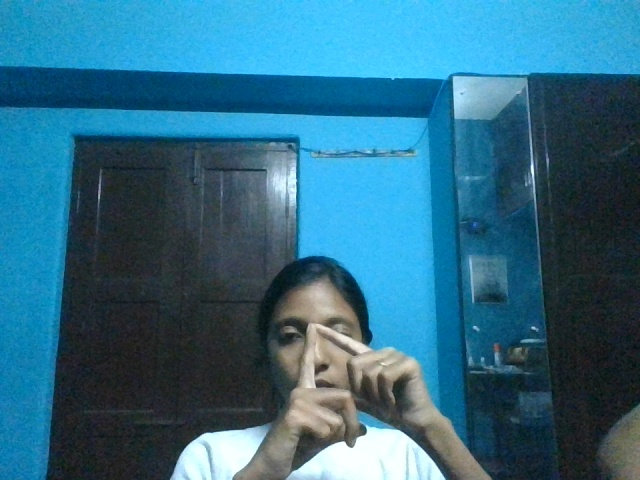D: (251, 322, 435, 480)
